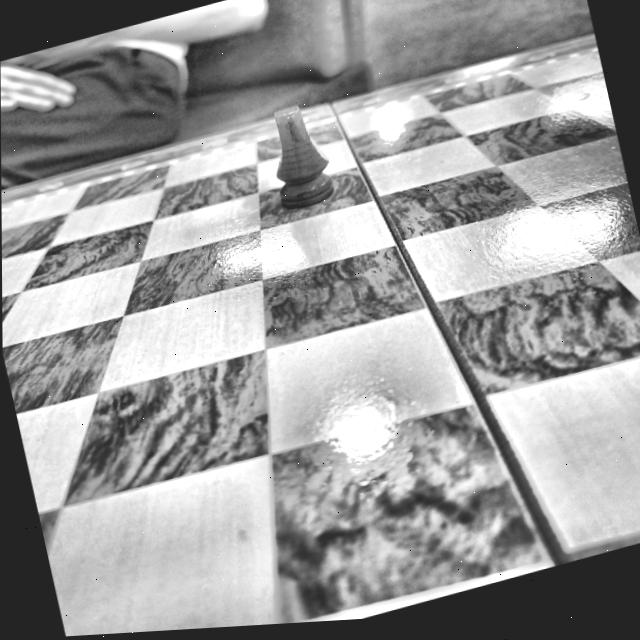black-knight: (274, 106, 335, 209)
